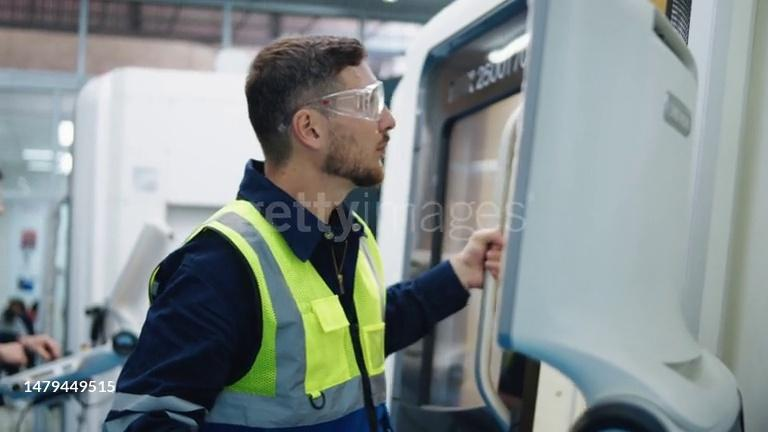person: (104, 28, 508, 432), (0, 329, 63, 371)
